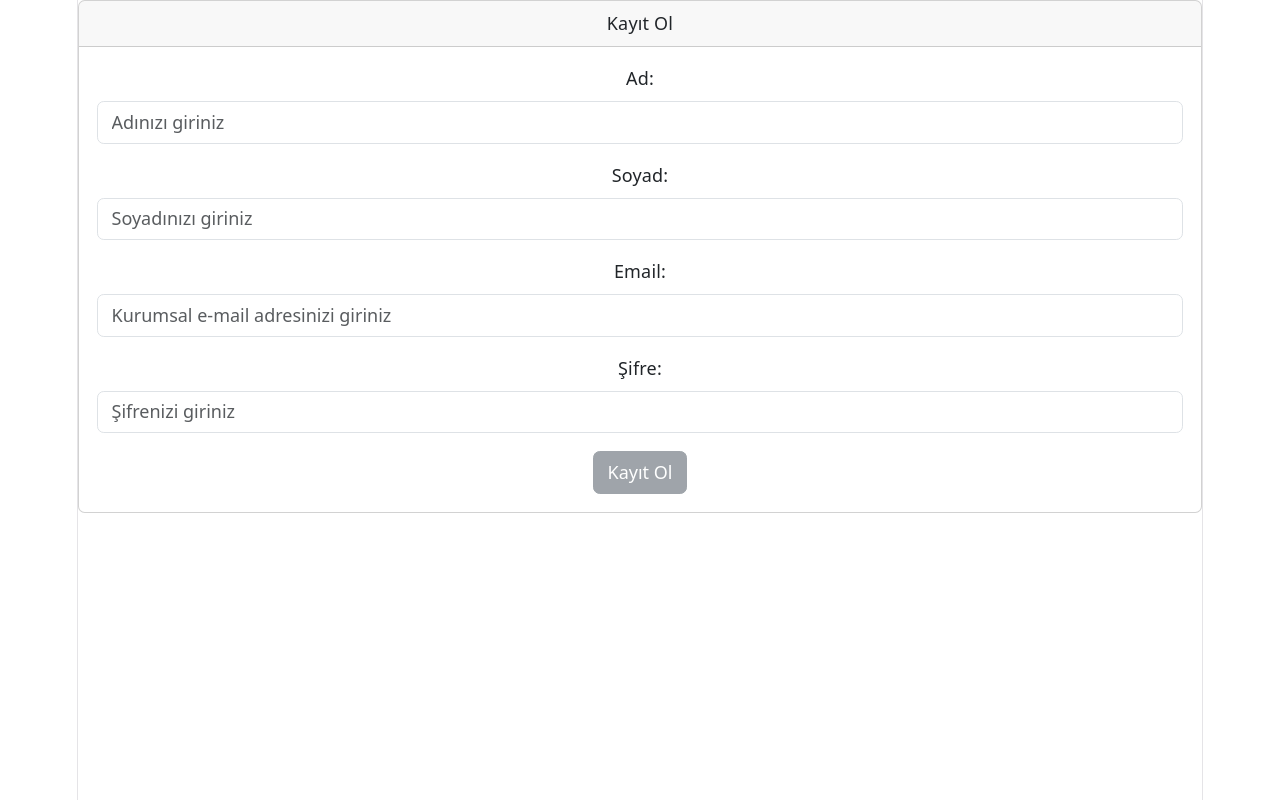
it: Register Page › Error Messages › Email input throws error for emre@vit.
In the field with test id "email-input": (640, 316) [97, 294, 1183, 337], type "emre@vit."
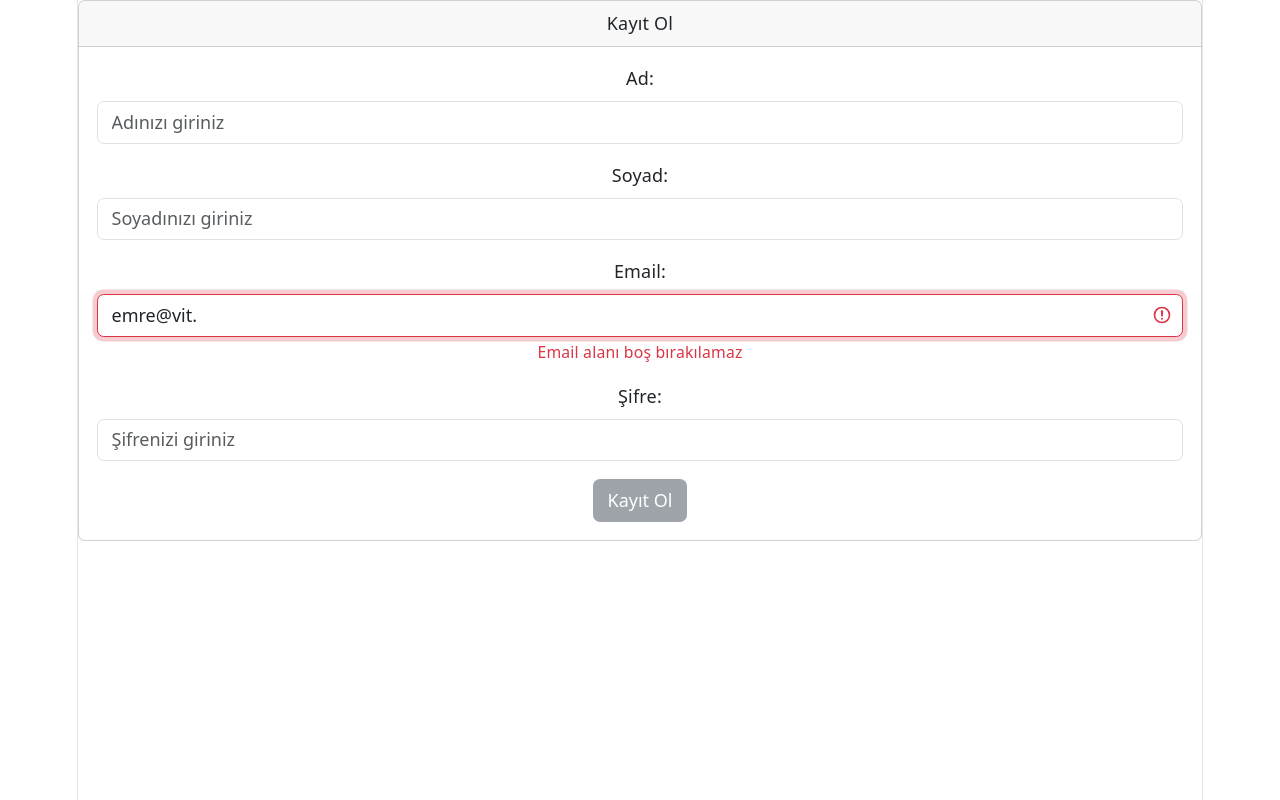
Check: the text "Email alanı boş bırakılamaz" is shown, box [538, 341, 742, 363]
